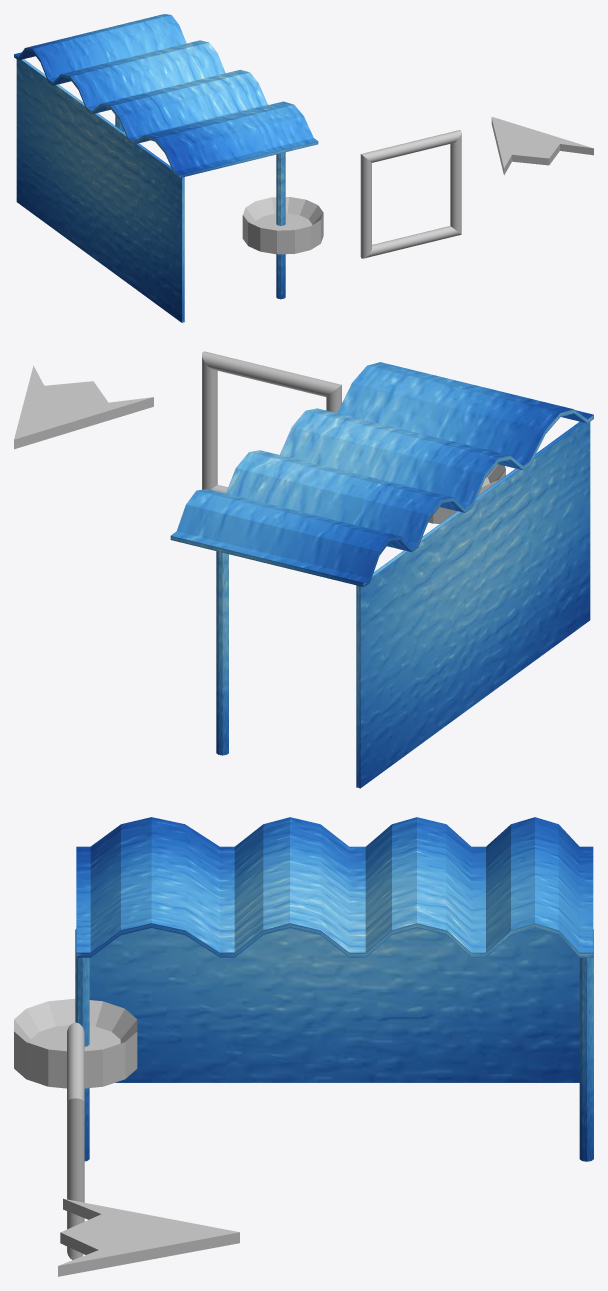
The model's file is props.fbx.
3 renders of one model, top to bottom at view 1: azimuth 30°, elevation 25°; view 2: azimuth 150°, elevation 25°; view 3: azimuth 270°, elevation 25°, orthographic. The views are drawn at different scales.
Parts seen in each view (by area): view 1: Cube, Cube_1, Sweep, Cylinder_2, Polygon, Cylinder; view 2: Cube, Cube_1, Polygon, Sweep, Cylinder_4, Cylinder_2; view 3: Cube, Cube_1, Cylinder_2, Polygon, Sweep, Cylinder_4, Cylinder.
Boxes of the visible parts, x1,y1,x2,y2 form: Cube: [16, 59, 184, 322]; Cube_1: [14, 14, 318, 177]; Sweep: [360, 130, 461, 258]; Cylinder_2: [242, 197, 323, 254]; Polygon: [491, 117, 593, 175]; Cylinder: [276, 152, 285, 299]; Cube: [356, 421, 590, 788]; Cube_1: [170, 362, 593, 586]; Polygon: [14, 365, 153, 449]; Sweep: [202, 351, 341, 493]; Cylinder_4: [216, 550, 228, 755]; Cylinder_2: [428, 464, 505, 523]; Cube: [89, 928, 579, 1082]; Cube_1: [76, 817, 593, 957]; Cylinder_2: [14, 998, 137, 1088]; Polygon: [58, 1198, 239, 1276]; Sweep: [67, 1022, 84, 1259]; Cylinder_4: [579, 929, 593, 1161]; Cylinder: [75, 928, 89, 1161].
Bounding box in the file's own units: 583 × 229 × 458.
Materials: 3 (1 with a texture image).
